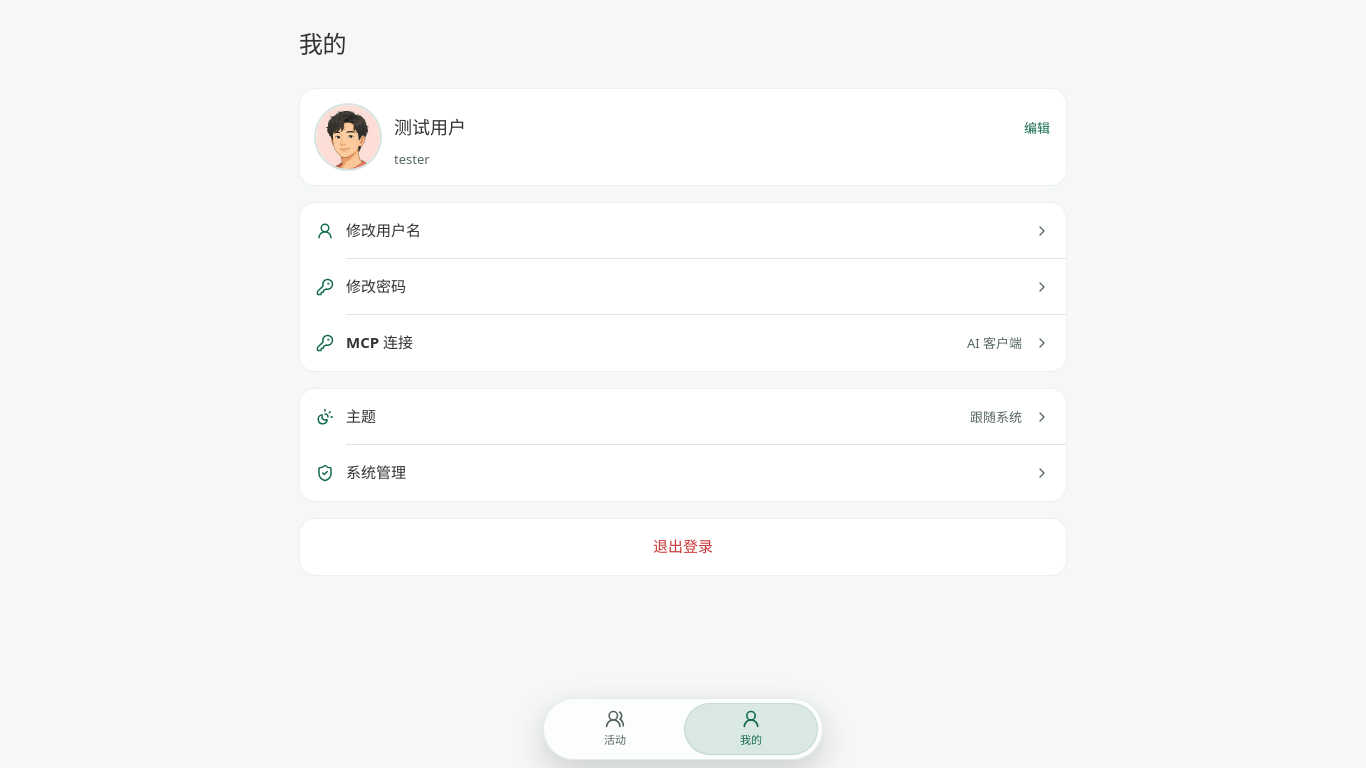
MePage › 显示原始用户名、不添加 @，并从昵称入口打开自动聚焦的 Sheet
Expected: the text "tester" is shown, top-left (394, 150), bottom-right (430, 168)
Step 1. Click the button with aria-label "修改昵称" → (430, 127), box top-left (394, 106), bottom-right (1050, 150)
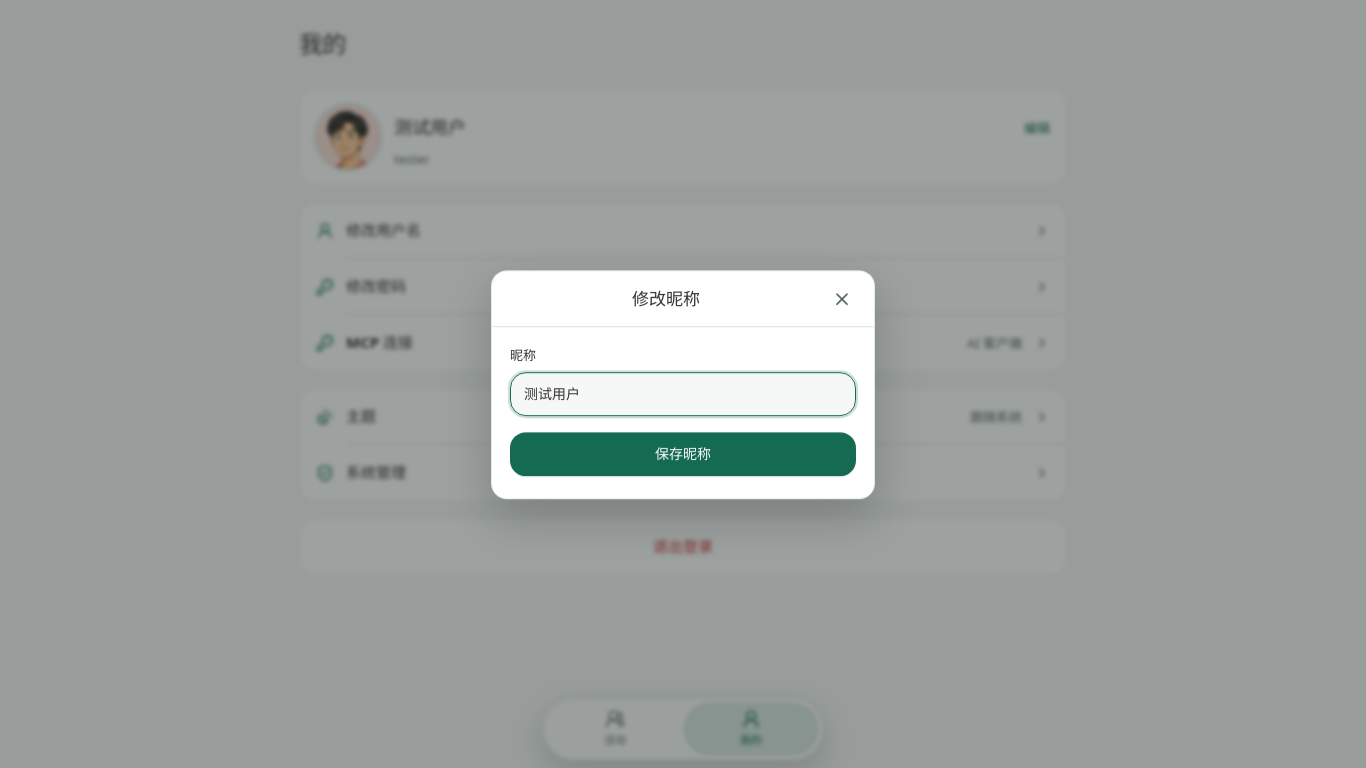
Expected: the dialog "修改昵称" is shown, top-left (491, 271), bottom-right (875, 500)
